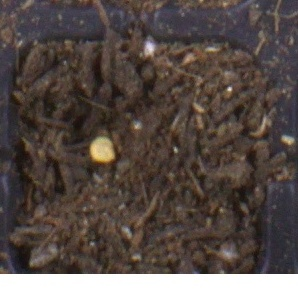chilli seed: (89, 136, 115, 163)
